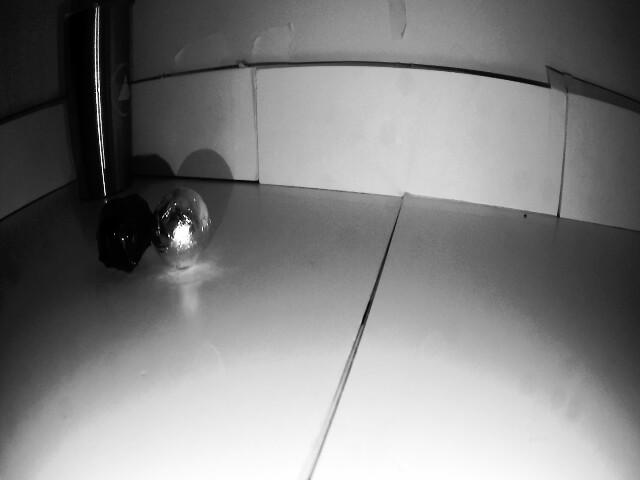black: (97, 190, 154, 270)
silver: (159, 189, 210, 273)
